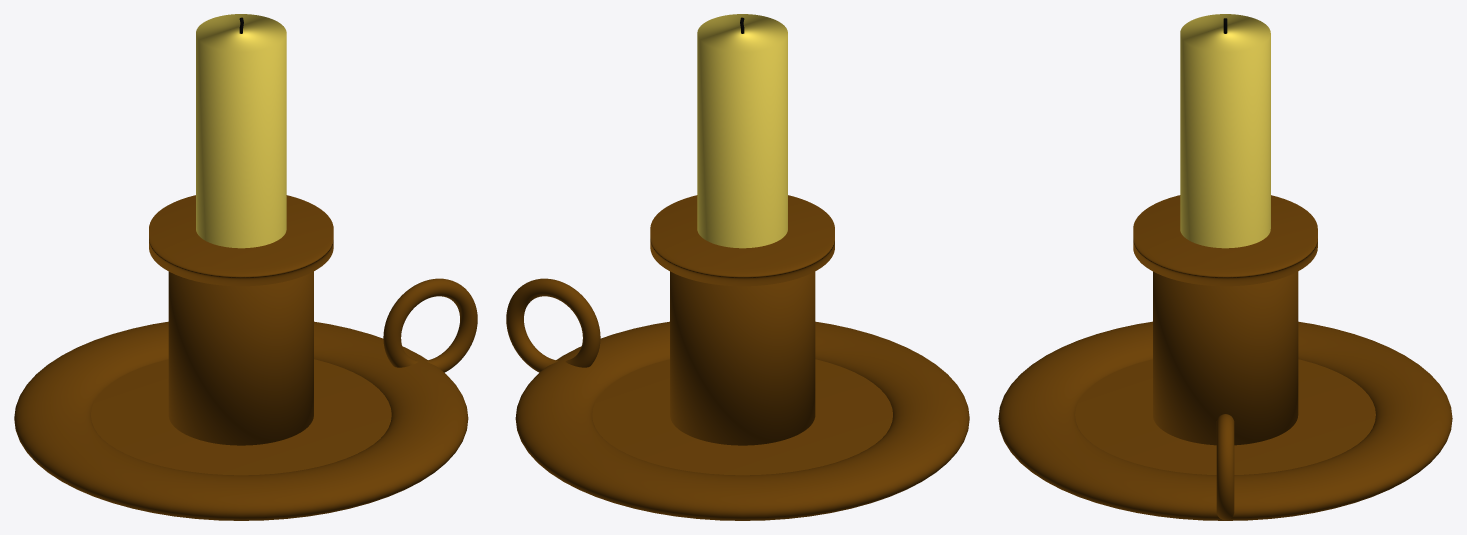
File: CandleStick.fbx
3 views of the same model, side by side, from view 1: azimuth 30°, elevation 25°; view 2: azimuth 150°, elevation 25°; view 3: azimuth 270°, elevation 25° (orthographic).
Parts seen in each view (by area): view 1: Torus, Cylinder_002, Cylinder, Cylinder_001, Cylinder_003, Torus_002; view 2: Torus, Cylinder_002, Cylinder, Cylinder_001, Cylinder_003, Torus_002; view 3: Torus, Cylinder_002, Cylinder, Cylinder_001, Cylinder_003, Torus_002.
Part boxes in pixels (left/top/right/bottom): Torus: left=14, top=321, right=468, bottom=520; Cylinder_002: left=168, top=271, right=313, bottom=445; Cylinder: left=196, top=14, right=286, bottom=248; Cylinder_001: left=91, top=359, right=391, bottom=475; Cylinder_003: left=149, top=195, right=333, bottom=286; Torus_002: left=383, top=278, right=477, bottom=372; Torus: left=515, top=321, right=969, bottom=520; Cylinder_002: left=670, top=271, right=815, bottom=445; Cylinder: left=697, top=14, right=787, bottom=248; Cylinder_001: left=592, top=359, right=892, bottom=475; Cylinder_003: left=650, top=195, right=834, bottom=286; Torus_002: left=506, top=278, right=600, bottom=372; Torus: left=998, top=321, right=1452, bottom=520; Cylinder_002: left=1153, top=271, right=1298, bottom=445; Cylinder: left=1180, top=14, right=1270, bottom=248; Cylinder_001: left=1075, top=359, right=1375, bottom=474; Cylinder_003: left=1133, top=195, right=1317, bottom=286; Torus_002: left=1216, top=414, right=1234, bottom=520.
Size of the model in its own units: 5.9 by 5.44 by 5.38.
